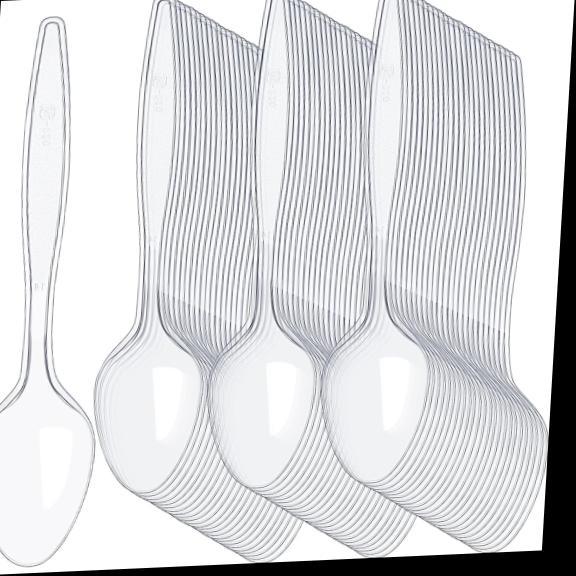Plastik: (323, 0, 547, 551), (94, 0, 299, 561), (213, 0, 414, 555), (0, 16, 93, 565)
